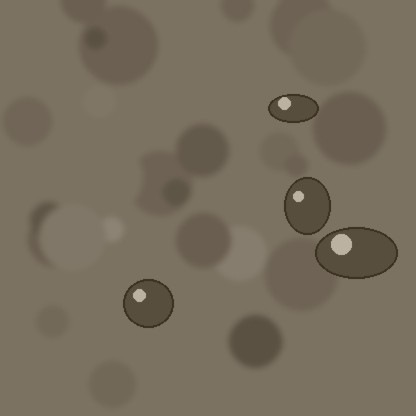gota: (315, 229, 397, 283), (284, 179, 330, 239), (123, 281, 173, 331), (268, 95, 318, 125)
